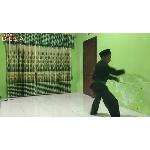Celurit: (111, 74, 131, 88)
